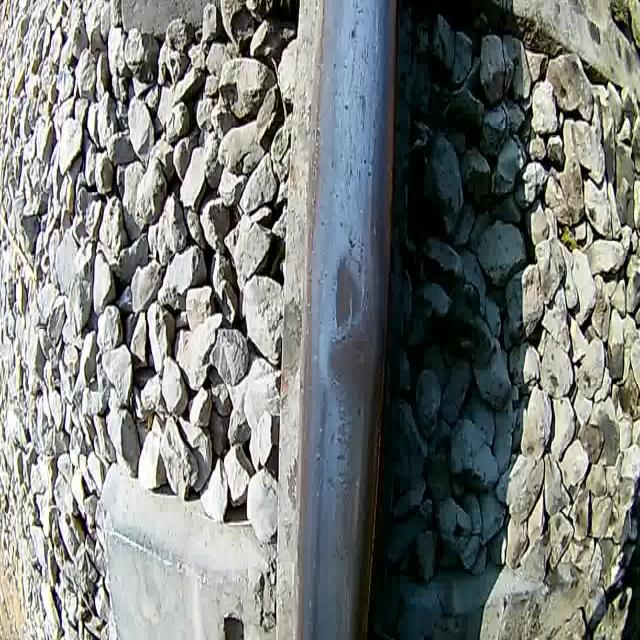Squats: (324, 321, 376, 404), (330, 250, 367, 336)
